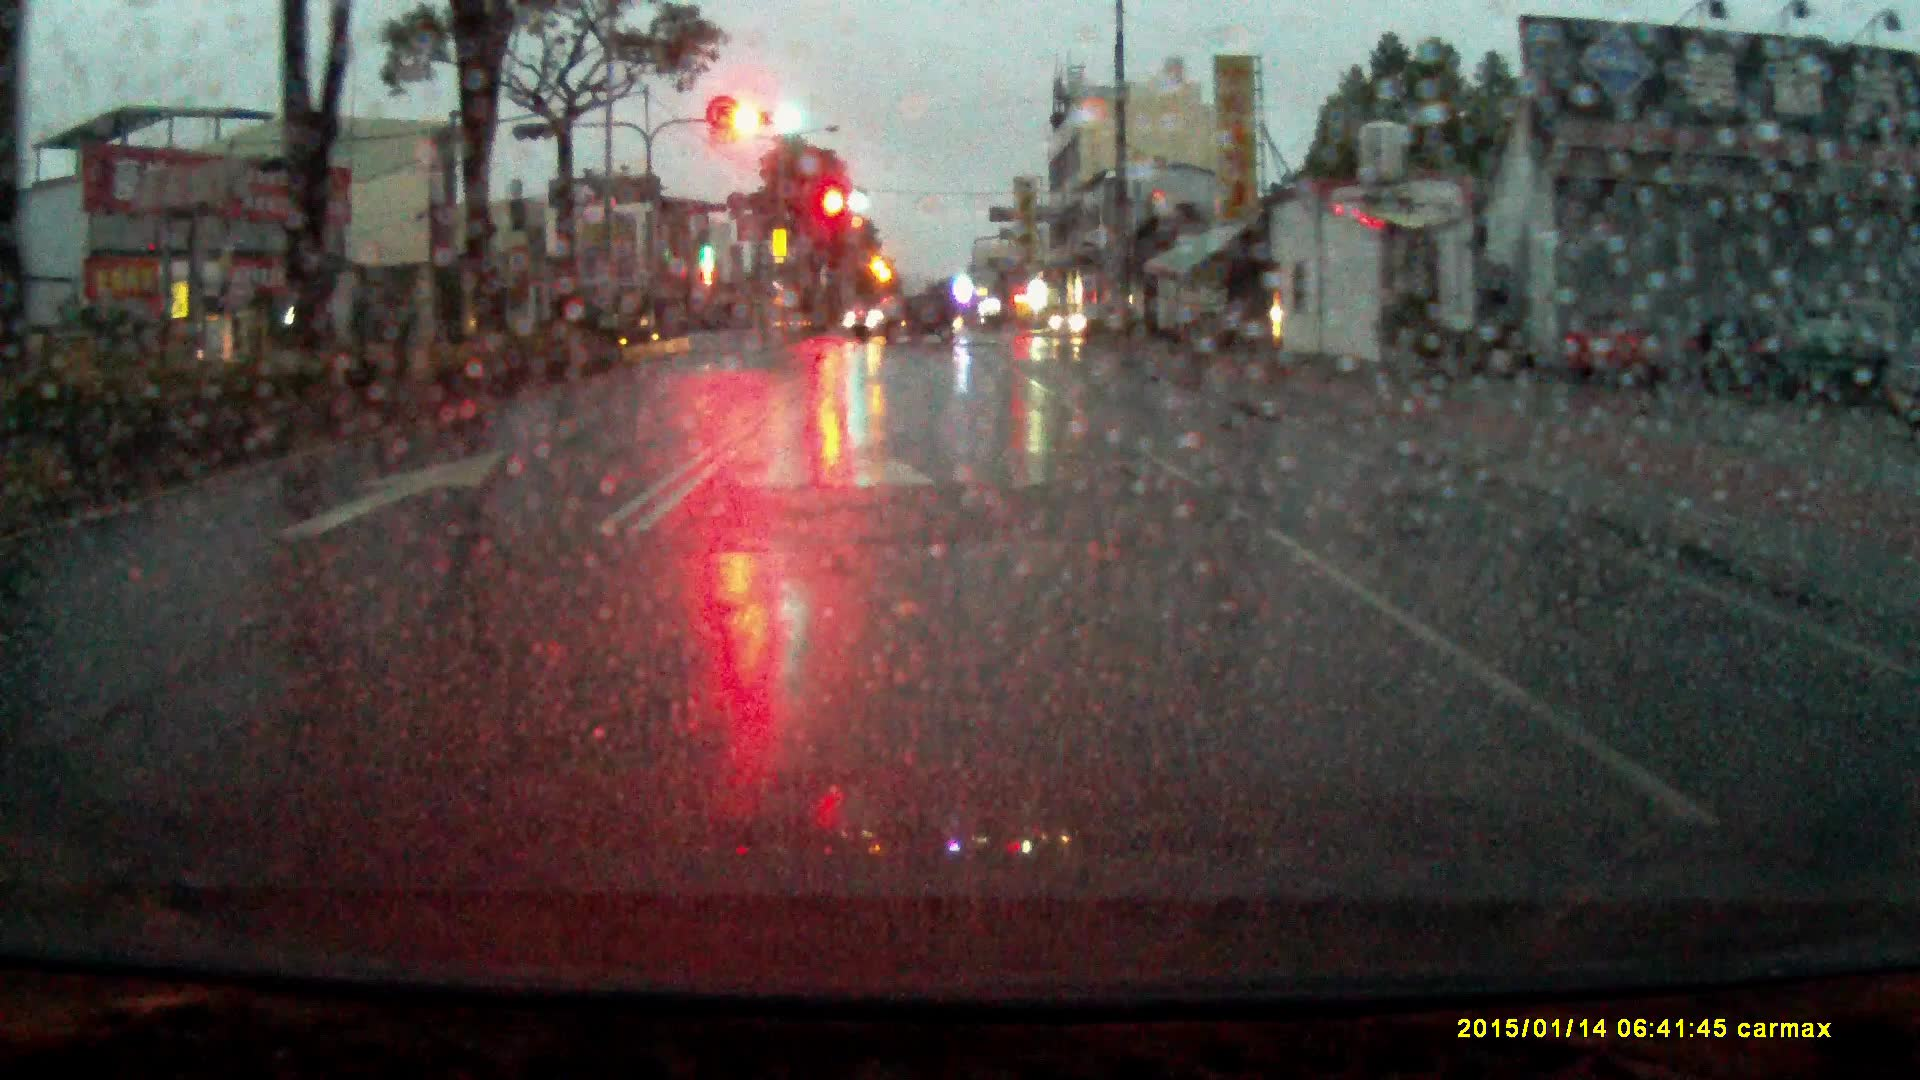vehicle: (844, 286, 963, 349), (1050, 301, 1141, 342)
